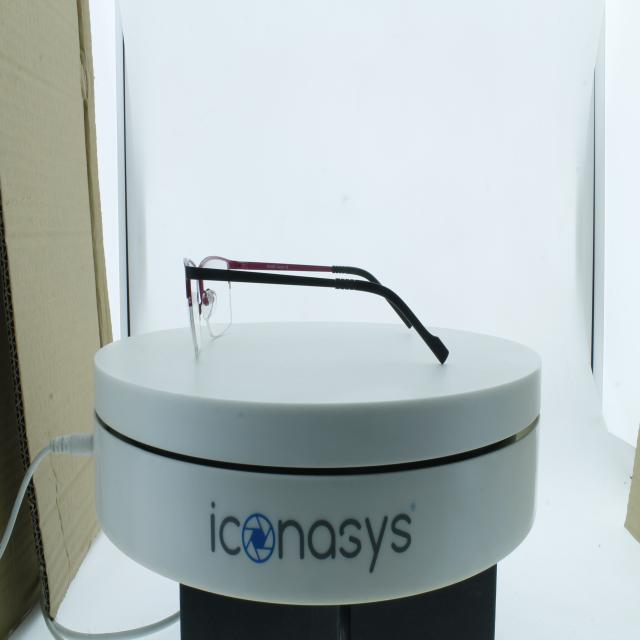Specs: (156, 222, 467, 396)
